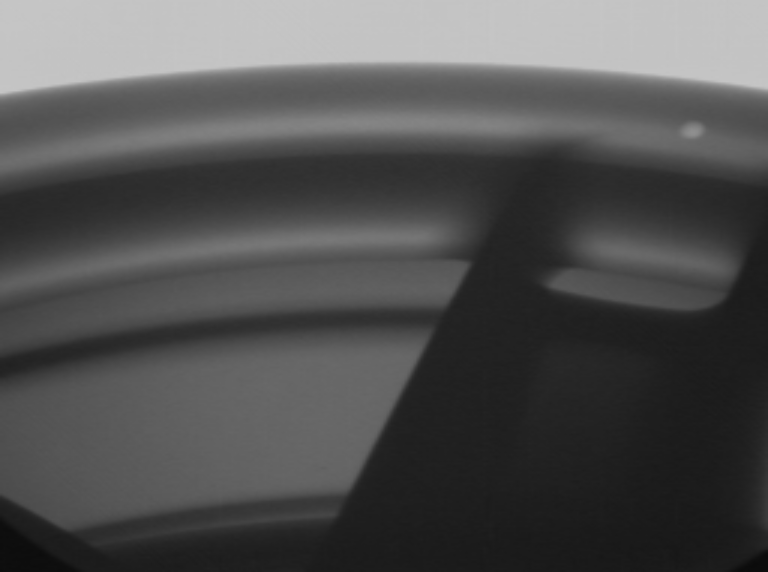defect: (678, 109, 720, 143)
